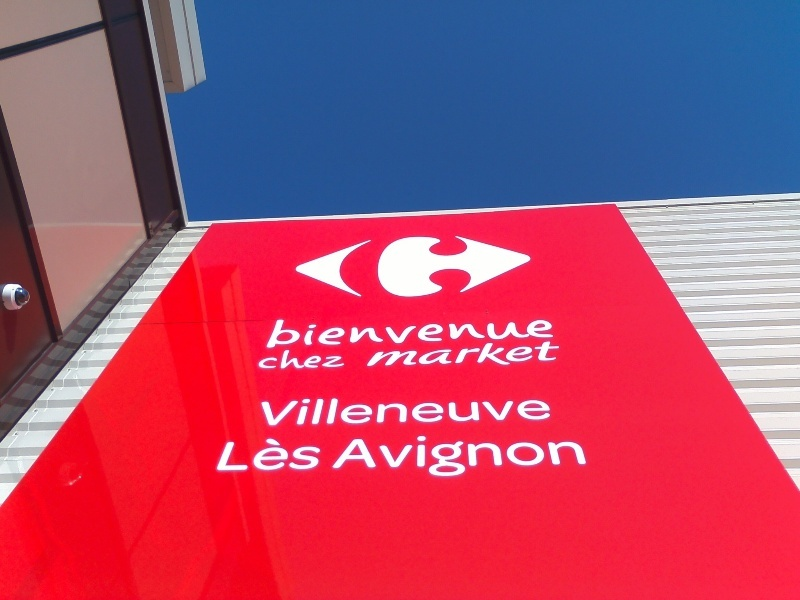text: (353, 433, 368, 479), (369, 433, 384, 479), (385, 433, 400, 479), (401, 433, 416, 479), (417, 433, 432, 479), (433, 433, 448, 479), (449, 433, 464, 479), (465, 433, 480, 479), (481, 433, 496, 479), (497, 433, 512, 479), (513, 433, 528, 479), (529, 433, 544, 479), (545, 433, 560, 479), (561, 433, 576, 479), (338, 433, 352, 479), (577, 433, 591, 479), (305, 437, 321, 472), (241, 437, 256, 472), (257, 437, 272, 472), (273, 437, 288, 472), (289, 437, 304, 472), (289, 317, 304, 349), (305, 317, 320, 349), (321, 317, 336, 349), (337, 317, 352, 349), (353, 317, 368, 349), (369, 317, 384, 349), (385, 317, 400, 349), (401, 317, 416, 349), (417, 317, 432, 349), (433, 317, 448, 349), (449, 317, 464, 349), (465, 317, 480, 349), (481, 317, 496, 349), (497, 317, 512, 349), (513, 317, 528, 349), (529, 317, 544, 349), (273, 397, 288, 429), (289, 397, 304, 429), (305, 397, 320, 429), (321, 397, 336, 429), (337, 397, 352, 429), (353, 397, 368, 429), (369, 397, 384, 429), (385, 397, 400, 429), (401, 397, 416, 429), (417, 397, 432, 429), (433, 397, 448, 429), (449, 397, 464, 429), (465, 397, 480, 429), (481, 397, 496, 429), (497, 397, 512, 429), (513, 397, 528, 429), (529, 397, 544, 429), (545, 340, 561, 367), (228, 437, 240, 472), (275, 317, 288, 349), (259, 397, 272, 429), (385, 340, 400, 367), (401, 340, 416, 367), (417, 340, 432, 367), (433, 340, 448, 367), (449, 340, 464, 367), (465, 340, 480, 367), (481, 340, 496, 367), (497, 340, 512, 367), (513, 340, 528, 367), (529, 340, 544, 367), (545, 317, 554, 349), (273, 350, 288, 369), (289, 350, 304, 369), (305, 350, 320, 369), (321, 350, 336, 369), (545, 397, 552, 429), (377, 340, 384, 367), (337, 350, 345, 369), (265, 350, 272, 369)
